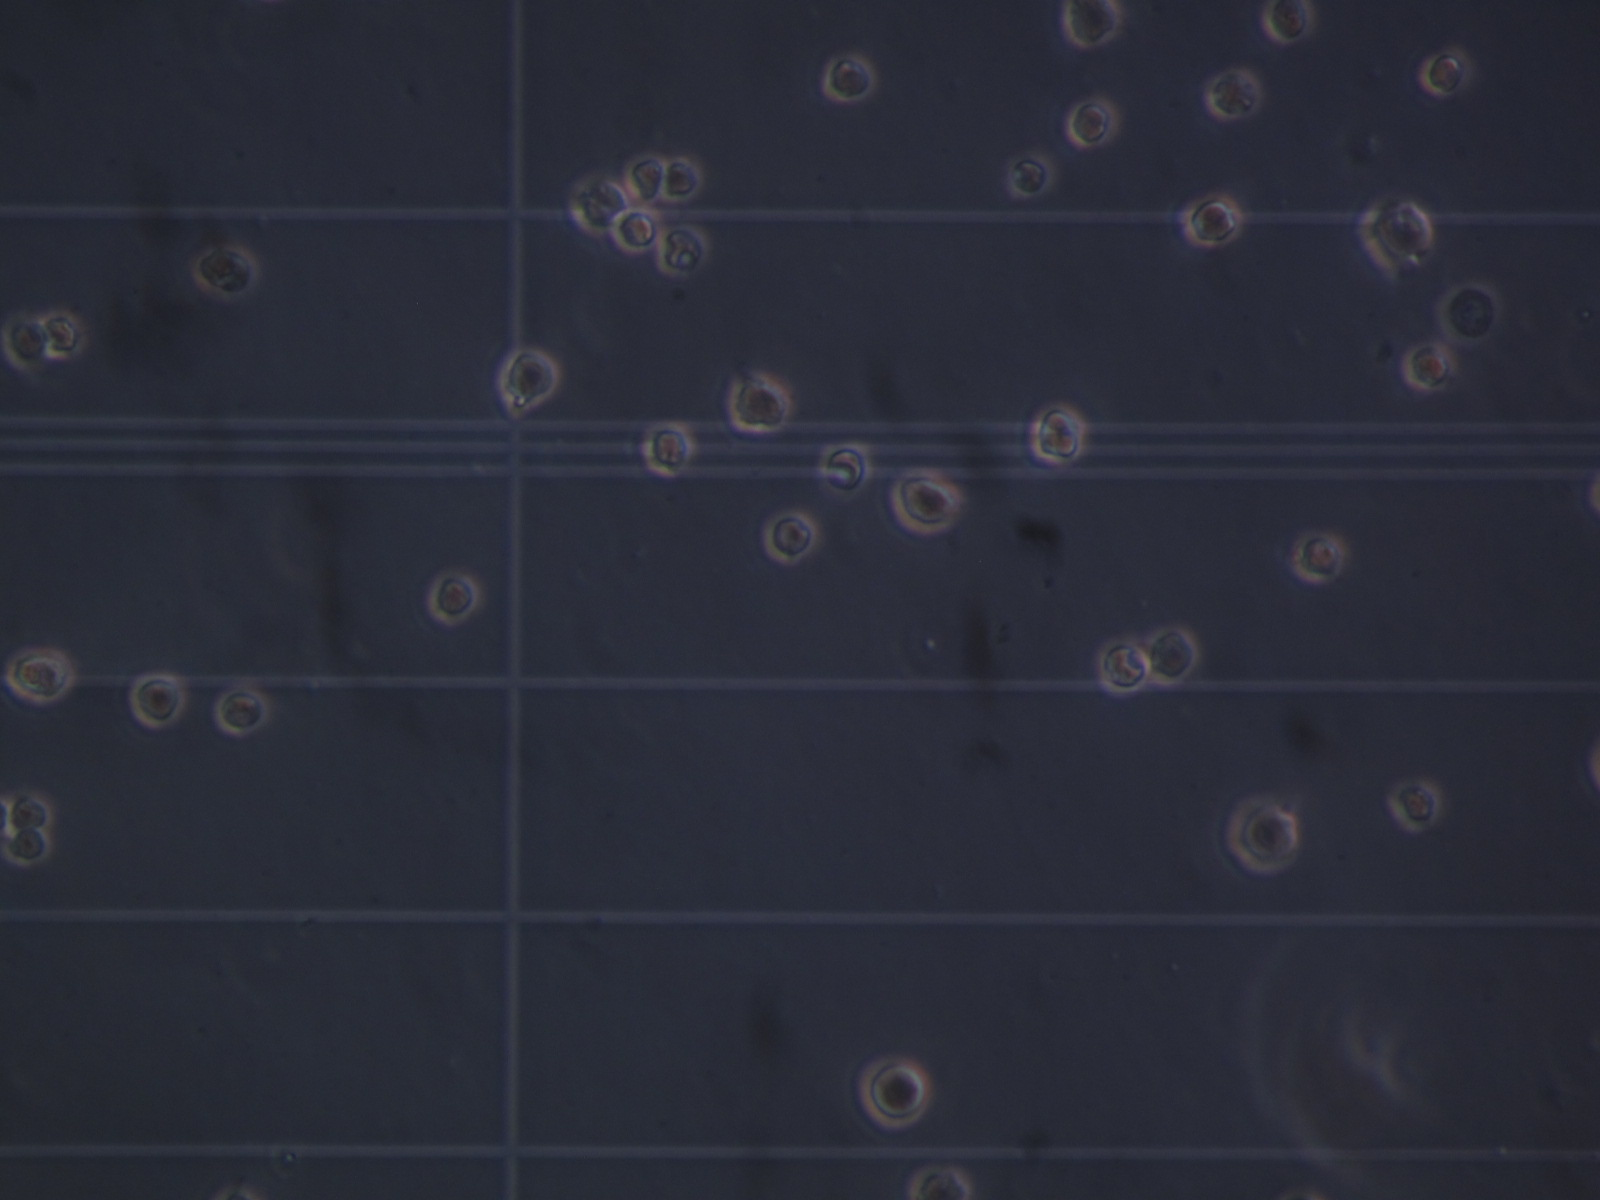hemo: (1354, 197, 1432, 277), (1225, 797, 1301, 879), (860, 1051, 934, 1131), (889, 470, 963, 536), (1437, 280, 1502, 348), (188, 243, 260, 299), (6, 648, 76, 705), (729, 372, 791, 434), (1143, 621, 1201, 686), (499, 347, 558, 408), (569, 174, 629, 233), (1180, 194, 1243, 247), (1032, 401, 1085, 463), (1385, 779, 1445, 832), (643, 420, 697, 478), (426, 567, 477, 628), (130, 673, 185, 729), (1066, 93, 1121, 147), (1293, 528, 1344, 586), (1204, 69, 1262, 120), (3, 313, 50, 373), (763, 511, 818, 563), (1004, 151, 1058, 202), (1065, 1, 1121, 48), (823, 442, 872, 495), (659, 224, 709, 275), (1100, 642, 1146, 695), (1401, 343, 1454, 389), (910, 1163, 974, 1200), (825, 54, 877, 100), (217, 689, 270, 734), (1264, 1, 1317, 45), (3, 790, 53, 833), (42, 310, 84, 359), (1421, 52, 1466, 97), (614, 211, 660, 253), (624, 154, 664, 203), (664, 156, 702, 204), (8, 827, 50, 866)
